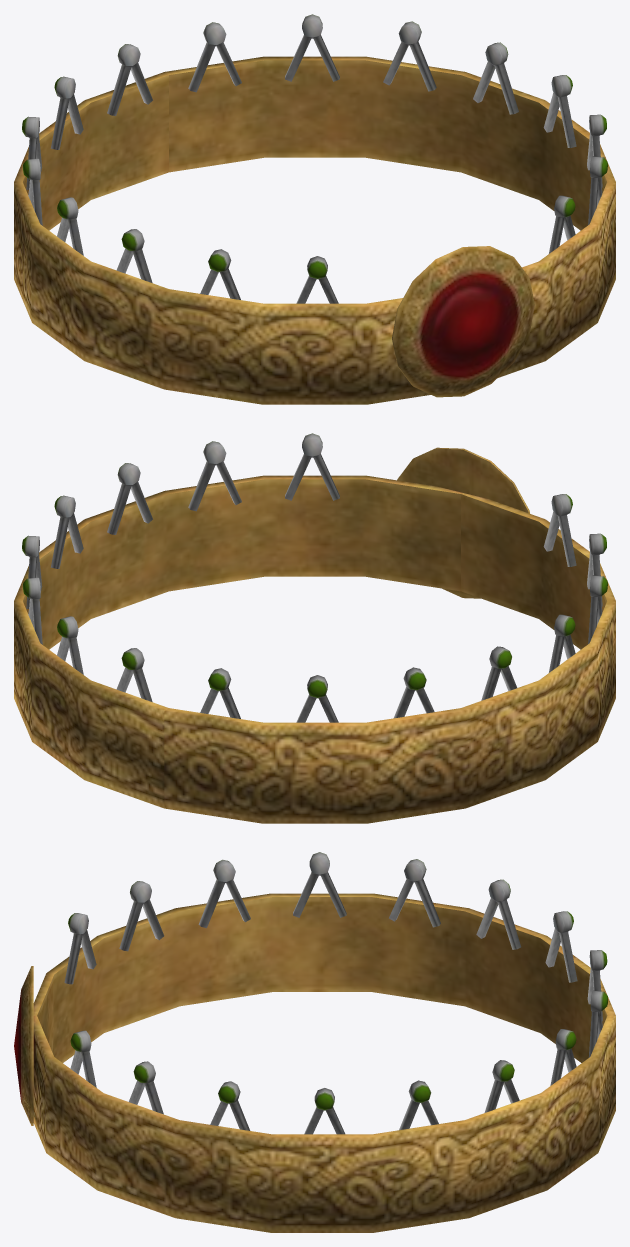
File: crown_gold.gltf
3 views of the same model, one above another, from view 1: azimuth 30°, elevation 25°; view 2: azimuth 150°, elevation 25°; view 3: azimuth 270°, elevation 25° (orthographic). The views are drawn at different scales.
Visible parts, largest first — view 1: crown_gold; view 2: crown_gold; view 3: crown_gold.
Boxes of the visible parts, x1,y1,x2,y2 form: crown_gold: [14, 14, 615, 404]; crown_gold: [14, 433, 615, 823]; crown_gold: [14, 852, 615, 1232].
Bounding box in the file's own units: 1 × 0.2792 × 1.04.
1 material, 1 textured.
